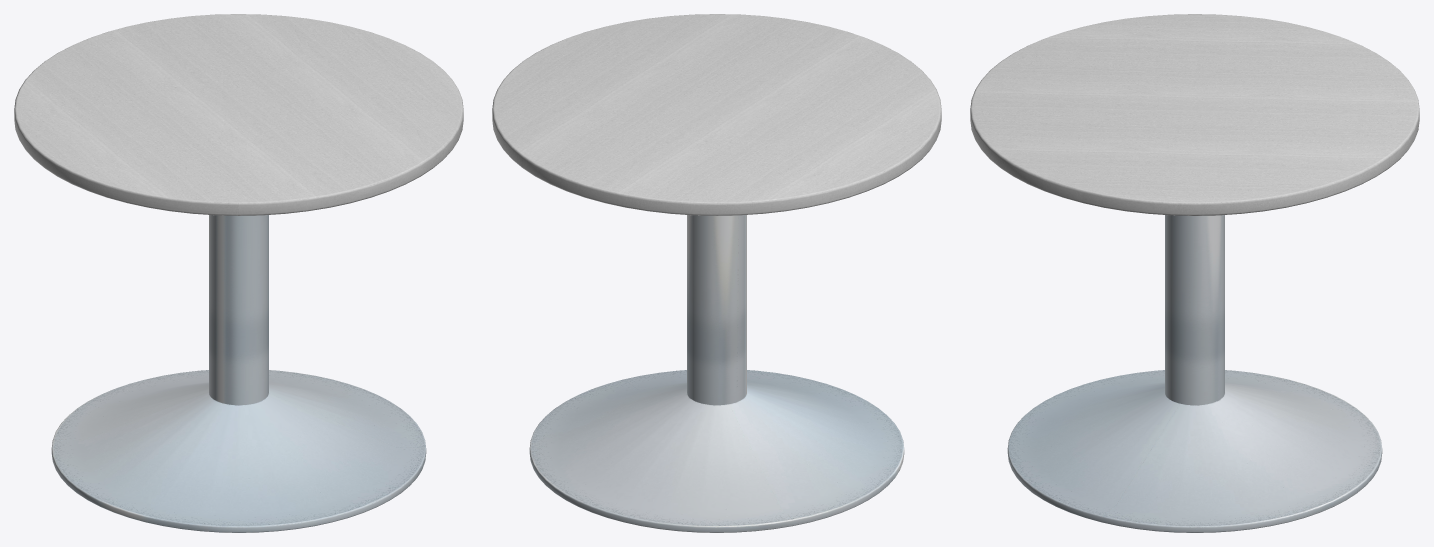
The model's file is fermo_50_alufarben_60_glass_laquered_metal.glb.
3 views of the same model, side by side, from view 1: azimuth 30°, elevation 25°; view 2: azimuth 150°, elevation 25°; view 3: azimuth 270°, elevation 25° (orthographic).
Parts seen in each view (by area): view 1: fermo_50_alufarben_o60-white; view 2: fermo_50_alufarben_o60-white; view 3: fermo_50_alufarben_o60-white.
Boxes of the visible parts, box(x1,y1,x2,y2) form: fermo_50_alufarben_o60-white: box(14, 14, 463, 532); fermo_50_alufarben_o60-white: box(492, 14, 941, 532); fermo_50_alufarben_o60-white: box(970, 14, 1419, 532).
Size of the model in its own units: 0.6 by 0.5097 by 0.6.
1 material, 1 textured.
